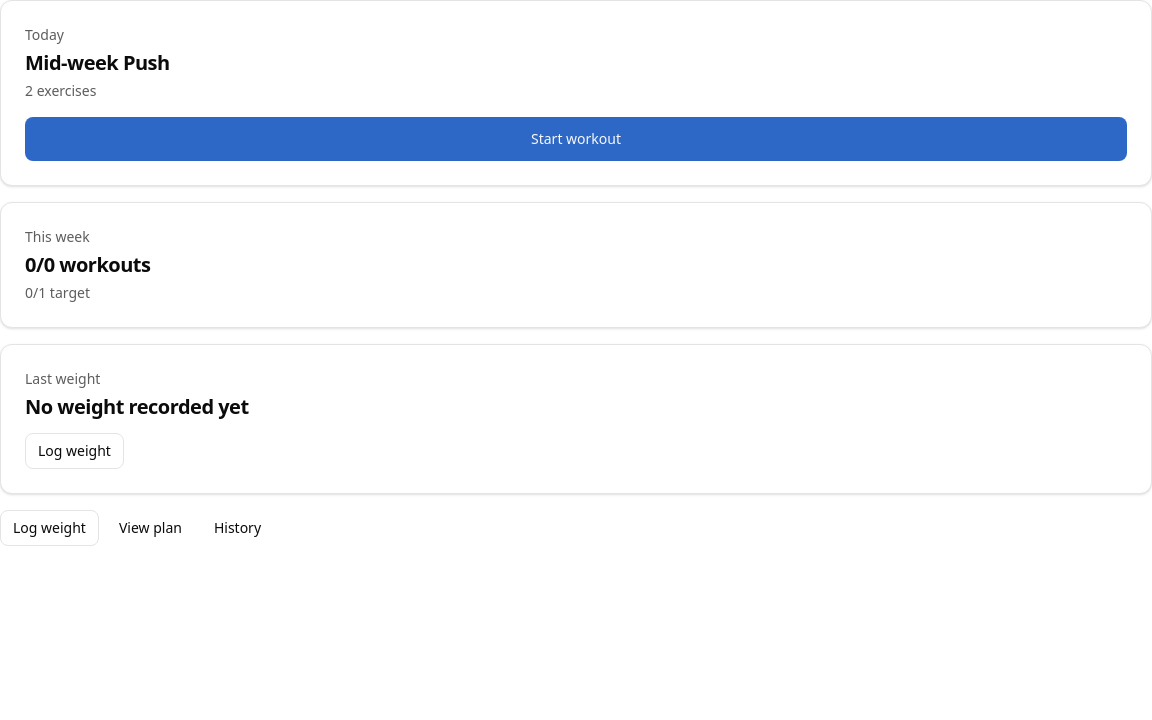
Test case: DashboardPage › shows the SESSION_ALREADY_ACTIVE toast and refetches the active session when startSession returns 409 + code SESSION_ALREADY_ACTIVE
This screenshot has width=1152, height=720.
Click the button "Start workout" at (576, 139), box [25,117,1127,161]
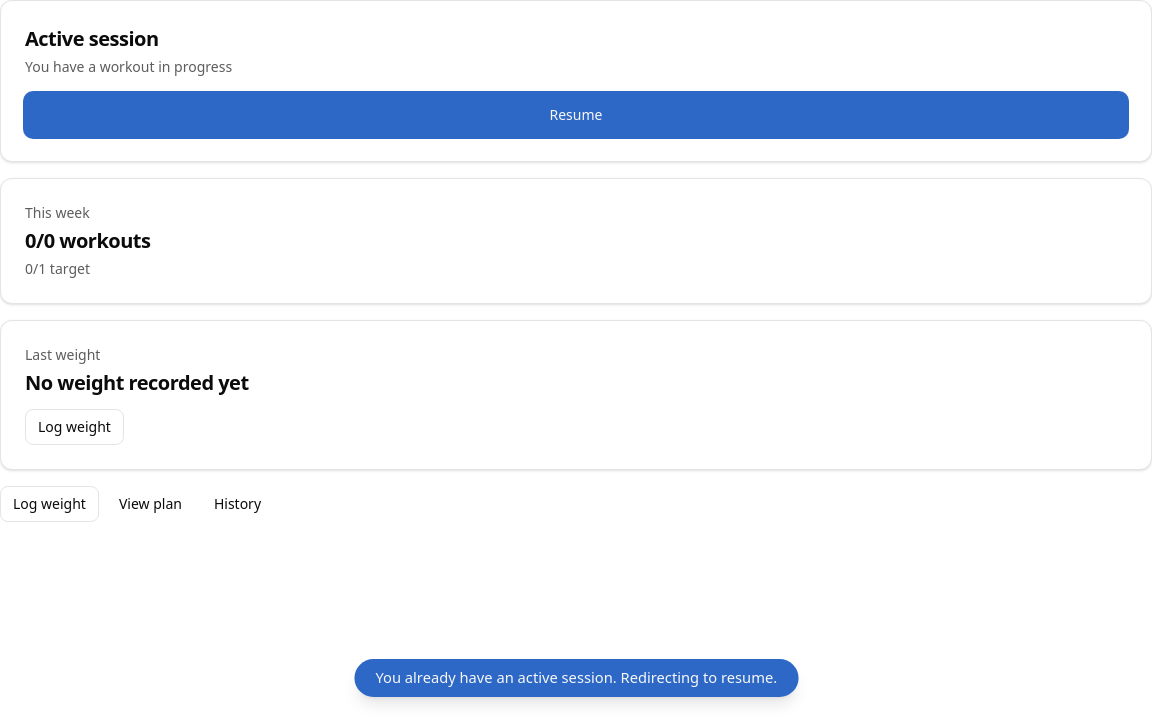
Now the message with test id "pr-toast" reads "You already have an active session. Redirecting to resume.", box [375,668,777,688]
